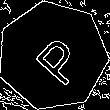P_NW: (21, 25, 85, 86)
